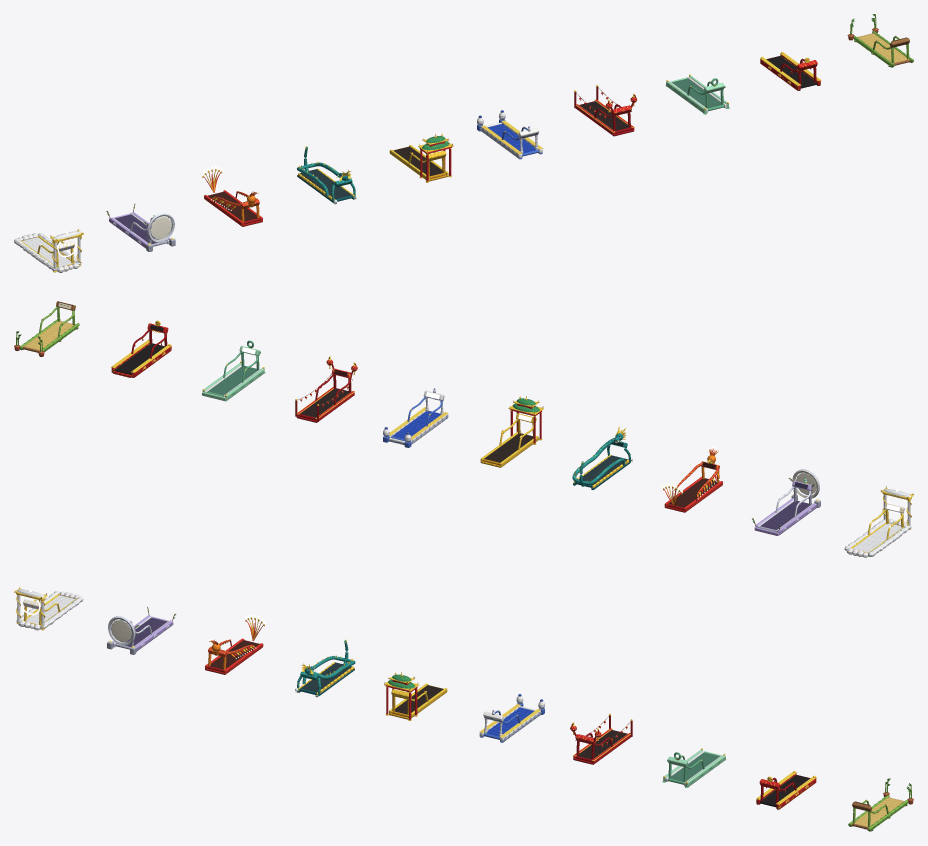
The model's file is TreadmillsChina.fbx.
3 renders of one model, top to bottom at view 1: azimuth 30°, elevation 25°; view 2: azimuth 150°, elevation 25°; view 3: azimuth 330°, elevation 25°, orthographic.
Visible parts, largest first — view 1: China10_Body, China6_Body, China5_Body, China4_Body, China8_Body, China7_Body, China3_Body, China2_Body, China1_Body, China9_Body; view 2: China10_Body, China6_Body, China9_Body, China4_Body, China5_Body, China8_Body, China2_Body, China3_Body, China7_Body, China1_Body; view 3: China10_Body, China6_Body, China5_Body, China7_Body, China4_Body, China8_Body, China3_Body, China1_Body, China2_Body, China9_Body.
Boxes of the visible parts, x1,y1,x2,y2 form: China10_Body: (14, 228, 83, 272); China6_Body: (389, 133, 453, 182); China5_Body: (477, 110, 542, 159); China4_Body: (574, 85, 637, 136); China8_Body: (202, 169, 262, 226); China7_Body: (297, 146, 356, 204); China3_Body: (665, 74, 729, 114); China2_Body: (760, 52, 821, 90); China1_Body: (847, 14, 913, 67); China9_Body: (106, 203, 175, 251); China10_Body: (844, 486, 913, 557); China6_Body: (480, 396, 543, 467); China9_Body: (752, 469, 820, 535); China4_Body: (295, 356, 357, 422); China5_Body: (383, 388, 448, 447); China8_Body: (663, 448, 722, 512); China2_Body: (111, 320, 171, 377); China3_Body: (201, 340, 265, 401); China7_Body: (572, 426, 632, 489); China1_Body: (14, 301, 79, 356); China10_Body: (14, 587, 83, 630); China6_Body: (384, 672, 447, 720); China5_Body: (479, 694, 544, 742); China7_Body: (295, 639, 355, 697); China4_Body: (570, 714, 632, 764); China8_Body: (205, 617, 264, 674); China3_Body: (662, 748, 726, 787); China1_Body: (848, 778, 913, 831); China2_Body: (756, 771, 816, 809); China9_Body: (107, 606, 176, 654).
Size of the model in its own units: 280 by 13.64 by 24.97.
25 materials, 10 textured.
